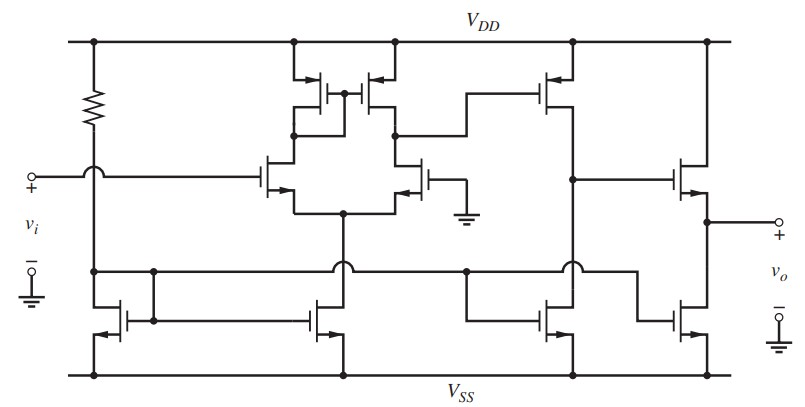gnd: (451, 202, 481, 225), (17, 285, 47, 308), (765, 331, 793, 354)
nmos: (88, 296, 131, 343), (305, 296, 347, 343), (255, 152, 297, 198), (535, 296, 576, 343), (390, 157, 432, 202), (670, 298, 711, 344), (670, 157, 711, 202)
pmos: (288, 69, 331, 115), (356, 71, 398, 116), (535, 69, 576, 115)
resistor: (79, 86, 107, 129)
